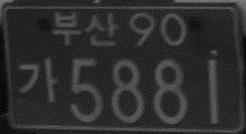0: (159, 11, 187, 47)
1: (205, 53, 223, 129)
5: (69, 57, 103, 123)
8: (153, 58, 188, 125), (111, 57, 144, 125)
9: (128, 10, 157, 49)
가: (17, 56, 59, 106)
부산_O: (51, 8, 119, 48)
